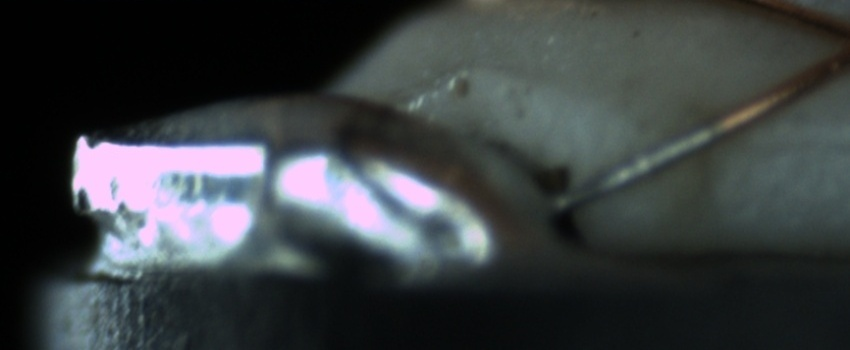CL: (809, 8, 850, 81)
DL: (740, 107, 849, 170)
TS: (551, 122, 726, 211)
